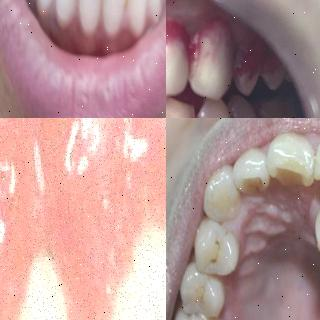Gum Swelling: (0, 118, 166, 320)
maligned: (295, 196, 320, 261)
stains: (122, 0, 130, 19), (69, 0, 78, 14)
